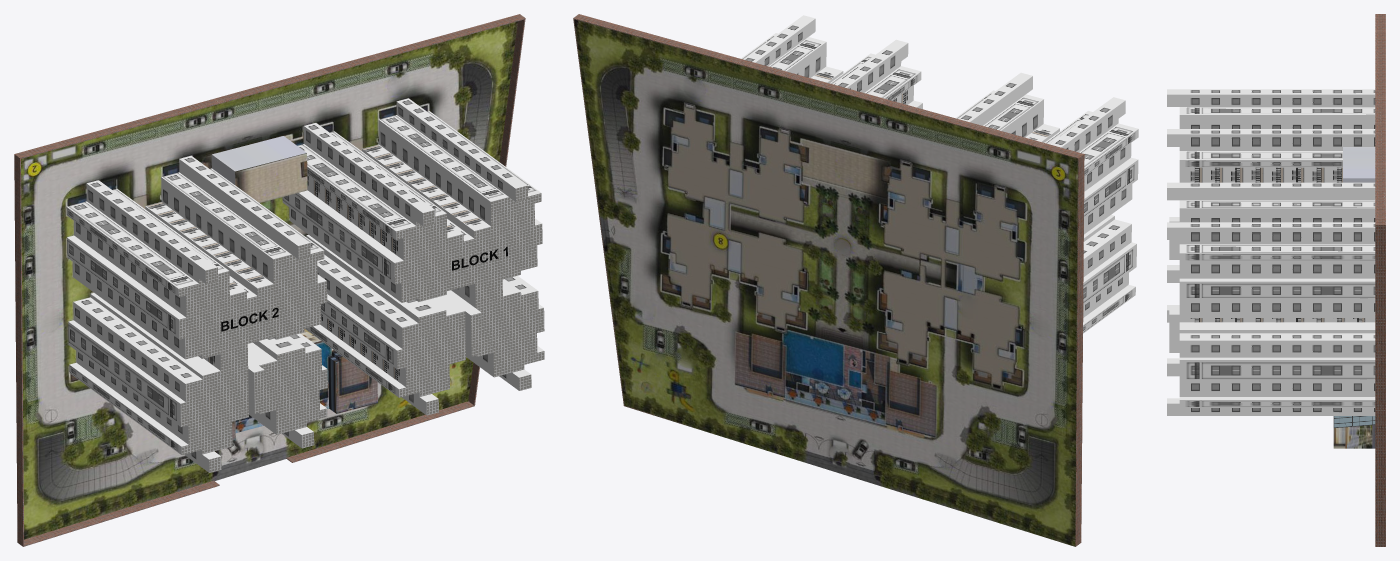
3 renders of one model, left to right at view 1: azimuth 30°, elevation 25°; view 2: azimuth 150°, elevation 25°; view 3: azimuth 270°, elevation 25°, orthographic. The views are drawn at different scales.
Parts seen in each view (by area): view 1: Shriram_Codename_Treasure_Island_CUText; view 2: Shriram_Codename_Treasure_Island_CUText; view 3: Shriram_Codename_Treasure_Island_CUText.
Part boxes in pixels (x1,y1,x2,y2): Shriram_Codename_Treasure_Island_CUText: [14, 14, 544, 546]; Shriram_Codename_Treasure_Island_CUText: [573, 14, 1138, 546]; Shriram_Codename_Treasure_Island_CUText: [1167, 14, 1385, 546].
Bounding box in the file's own units: 159 × 122 × 64.75.
Materials: 3 (2 with a texture image).
